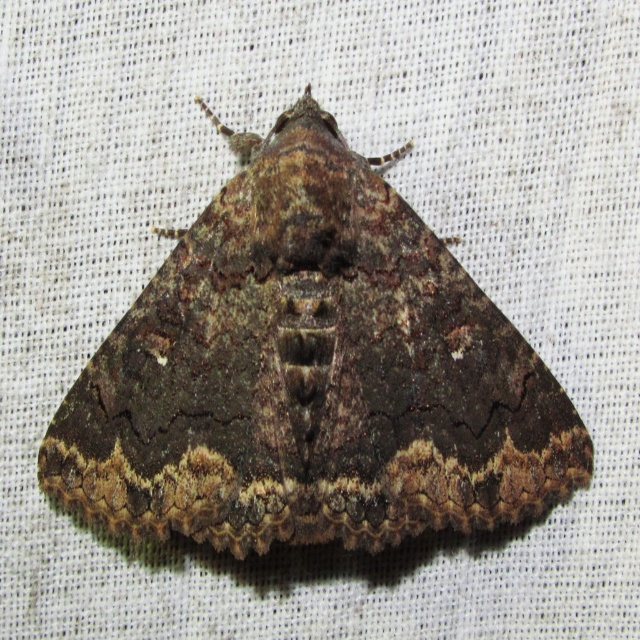Moths and butterflies: (36, 80, 596, 562)
